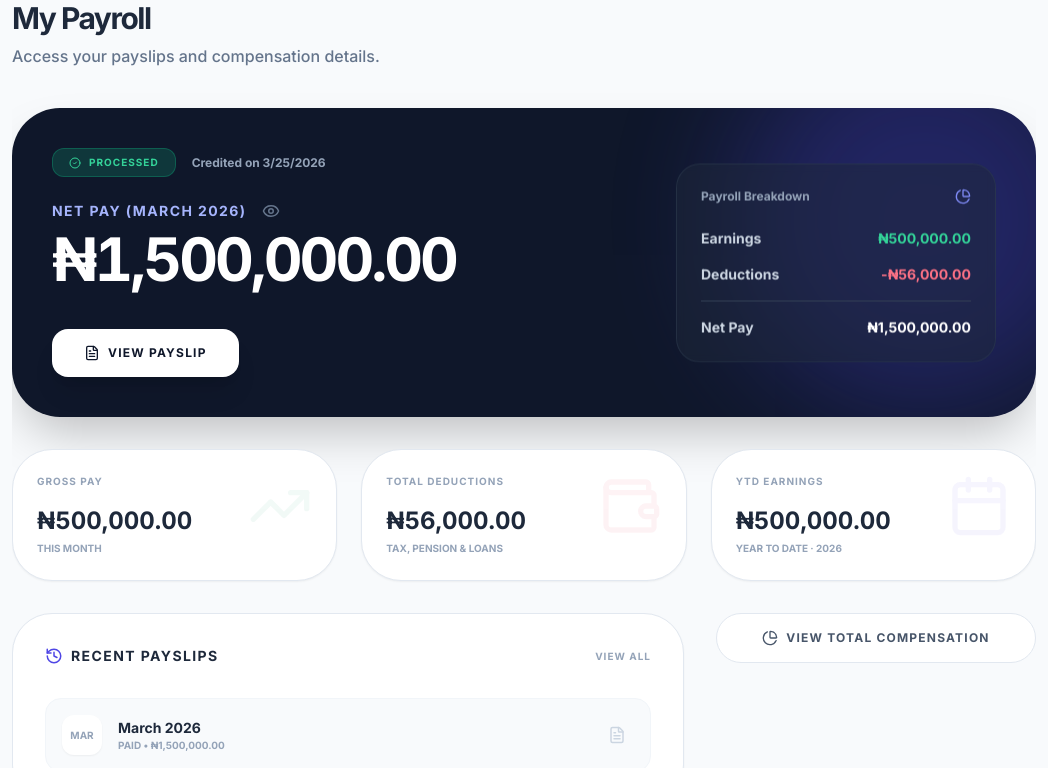
Test: MyPayroll › Payslip detail — amount in words › spells 1500000 as "One Million Five Hundred Thousand Naira Only"
Click the button "View Payslip" at (145, 353), box [52, 329, 239, 377]
(page scrolled)
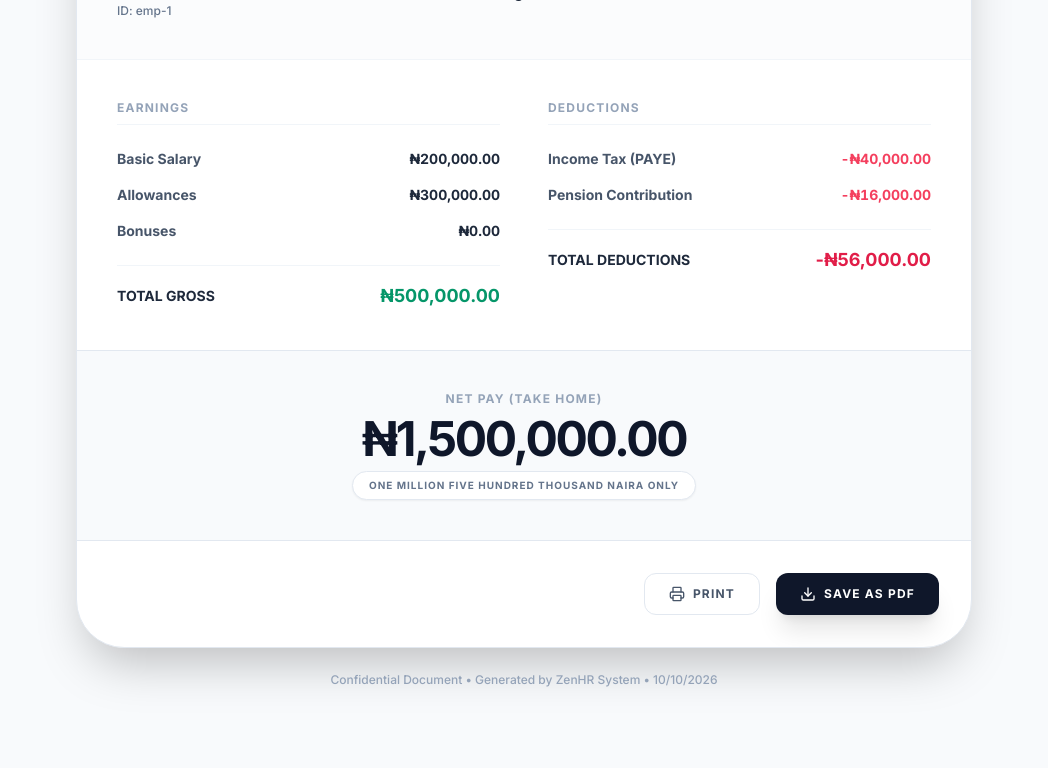
Result: the text "One Million Five Hundred Thousand Naira Only" is shown at [352, 471, 696, 500]
